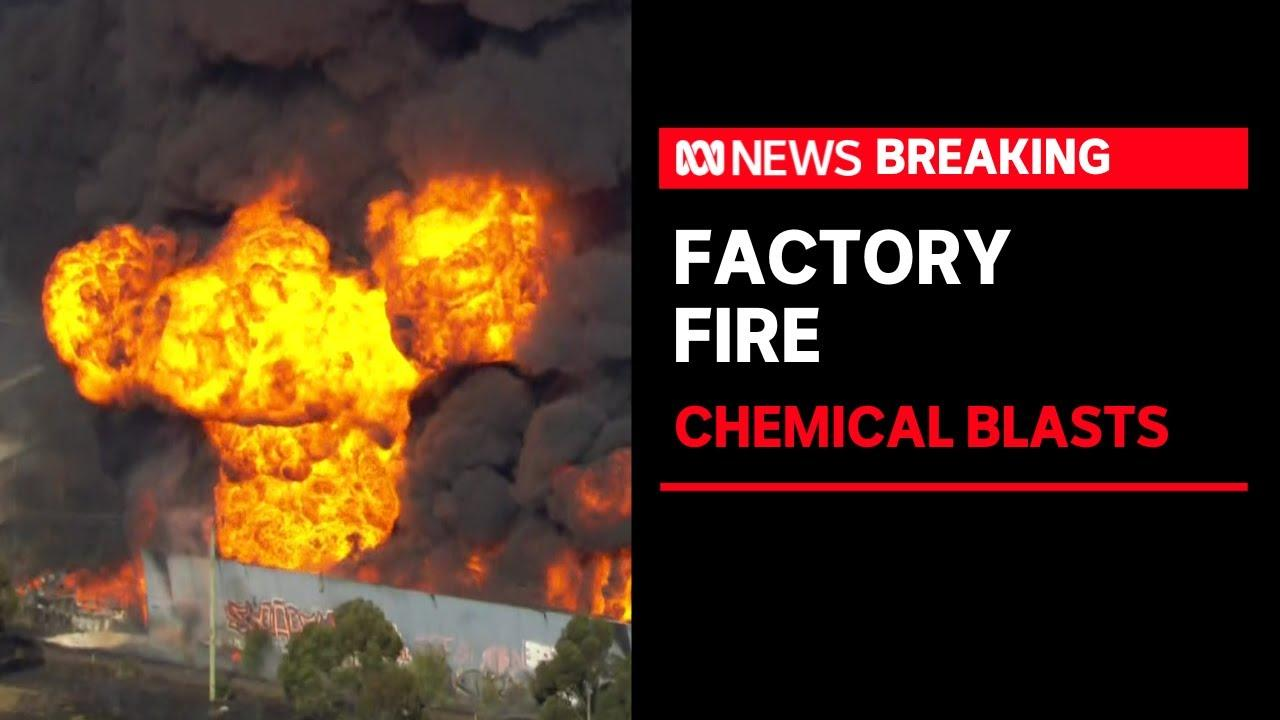fire: (11, 185, 595, 597)
